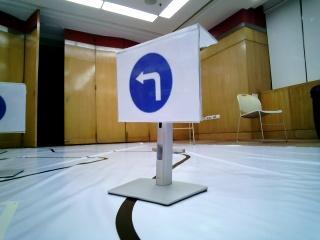left: (115, 46, 198, 115)
